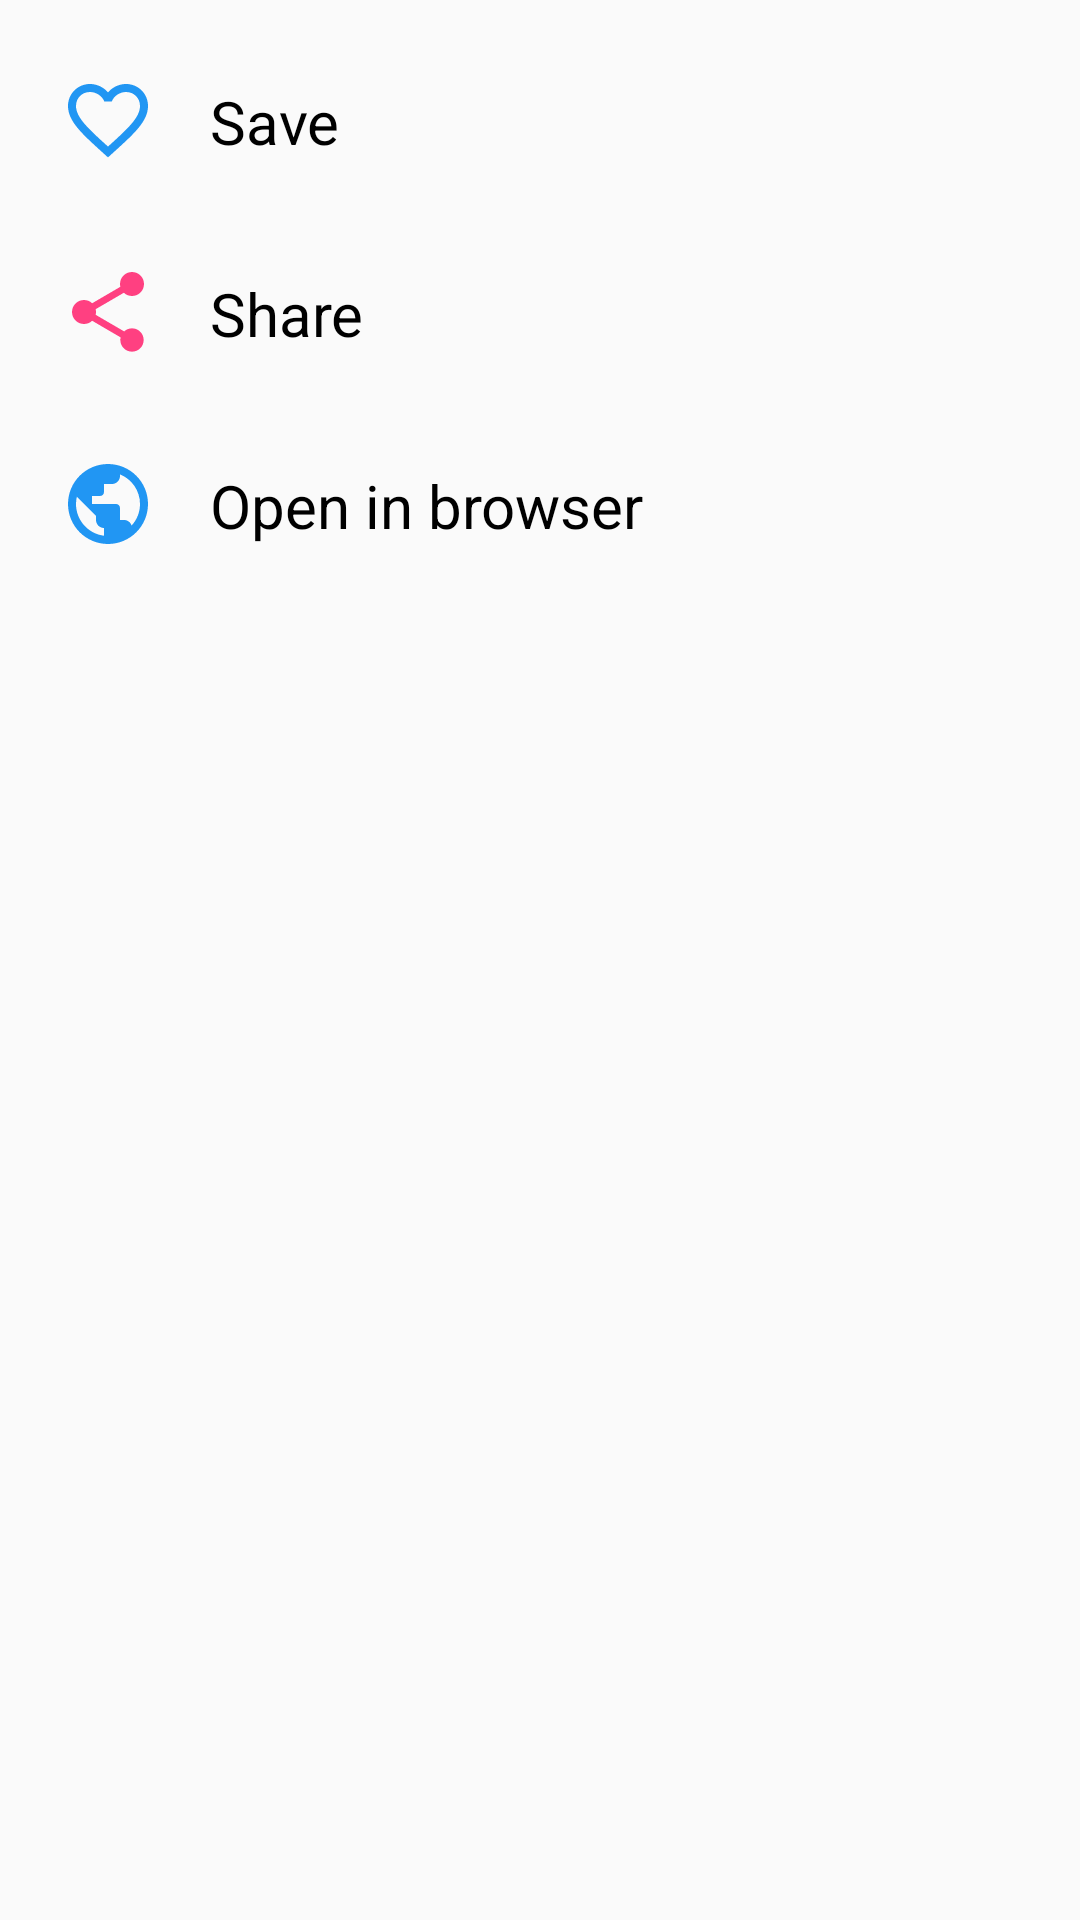

Locate icon controls on the screen. Image size 1080*1920, boxes as (x1, y1, x2, y2).
favorite empty: (68, 84, 148, 157)
